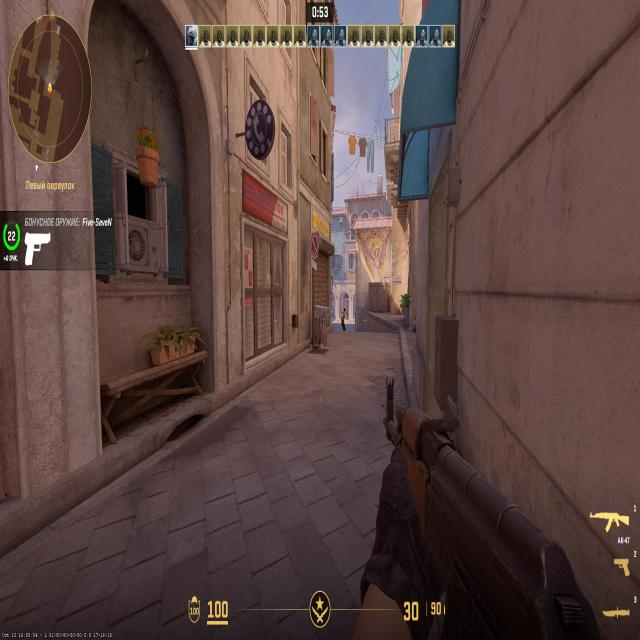T: (343, 310, 348, 328)
T_heat: (345, 309, 346, 316)
